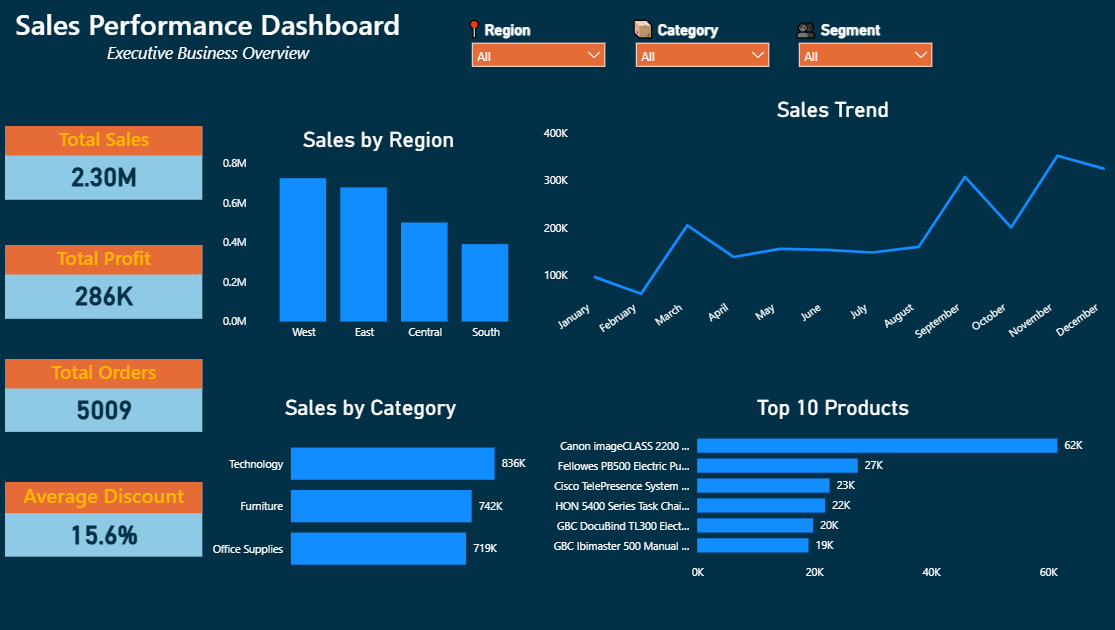

Layout of this report page (visuals, bound fields, positions):
{"tool":"powerbi","page":{"name":"Página 1","canvas":[1280,720],"ordinal":0},"visuals":[{"type":"textbox","box":[0,0,476.7,82.2],"z":0},{"type":"card","title":"Total Sales","fields":{"Values":["Sum(Sample - Superstore.Sales)"]},"box":[10,143.3,222.2,83.3],"z":1000},{"type":"card","title":"Total Profit","fields":{"Values":["Sum(Sample - Superstore.Profit)"]},"box":[10,276.7,222.2,83.3],"z":2000},{"type":"card","title":"Total Orders","fields":{"Values":["Count(Sample - Superstore.Order ID)"]},"box":[10,404.4,222.2,82.2],"z":3000},{"type":"card","title":"Average Discount","fields":{"Values":["Avg(Sample - Superstore.Discount)"]},"box":[10,543.3,222.2,84.4],"z":4000},{"type":"clusteredBarChart","title":"Sales by Category","fields":{"Category":["Sample - Superstore.Category"],"Y":["Sum(Sample - Superstore.Sales)"]},"box":[231.8,445.5,379.1,217.1],"z":5000},{"type":"clusteredColumnChart","title":"Sales by Region","fields":{"Category":["Sample - Superstore.Region"],"Y":["Sum(Sample - Superstore.Sales)"]},"box":[250,144.4,361.1,248.9],"z":6000},{"type":"clusteredBarChart","title":"Top 10 Products","fields":{"Category":["Sample - Superstore.Product Name"],"Y":["Sum(Sample - Superstore.Sales)"]},"box":[610.9,445.5,661.5,217.1],"z":7000},{"type":"lineChart","title":"Sales Trend","fields":{"Y":["Sum(Sample - Superstore.Sales)","select"],"Category":["Sample - Superstore.Order Date.Variation.Jerarquía de fechas.Año","Sample - Superstore.Month_EN"]},"box":[611.1,110,661.1,294.4],"z":8000},{"type":"slicer","title":"📍 Region","fields":{"Values":["Sample - Superstore.Region"]},"box":[525.6,20,170,62.2],"z":9000},{"type":"slicer","title":"📦 Category","fields":{"Values":["Sample - Superstore.Category"]},"box":[710,20,170,62.2],"z":10000},{"type":"slicer","title":"👥 Segment","fields":{"Values":["Sample - Superstore.Segment"]},"box":[893.3,20,170,62.2],"z":11000}]}

Visuals, with their boxes in screenshot pixels (x1, y1, x2, y2), scaled from the page's 1280x720 canvas onto the 1115x630 screenshot:
textbox: x1=0, y1=0, x2=415, y2=72
"Total Sales" card: x1=9, y1=125, x2=202, y2=198
"Total Profit" card: x1=9, y1=242, x2=202, y2=315
"Total Orders" card: x1=9, y1=354, x2=202, y2=426
"Average Discount" card: x1=9, y1=475, x2=202, y2=549
"Sales by Category" clusteredBarChart: x1=202, y1=390, x2=532, y2=580
"Sales by Region" clusteredColumnChart: x1=218, y1=126, x2=532, y2=344
"Top 10 Products" clusteredBarChart: x1=532, y1=390, x2=1108, y2=580
"Sales Trend" lineChart: x1=532, y1=96, x2=1108, y2=354
"📍 Region" slicer: x1=458, y1=18, x2=606, y2=72
"📦 Category" slicer: x1=618, y1=18, x2=767, y2=72
"👥 Segment" slicer: x1=778, y1=18, x2=926, y2=72
